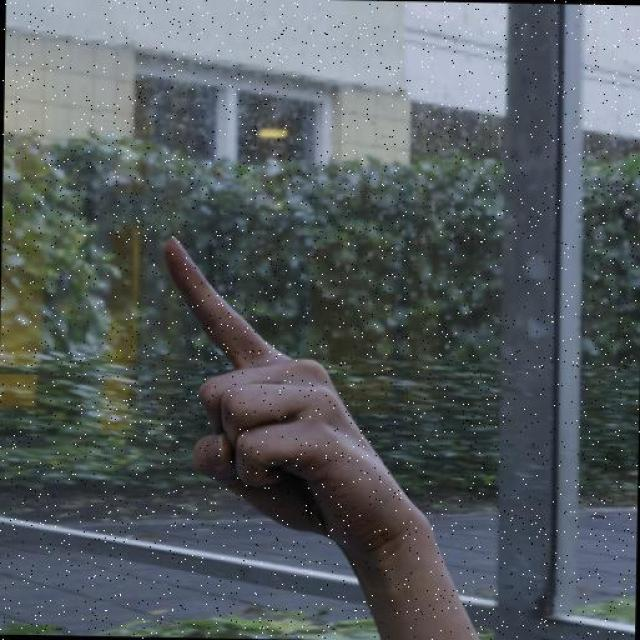Z: (125, 205, 485, 640)
